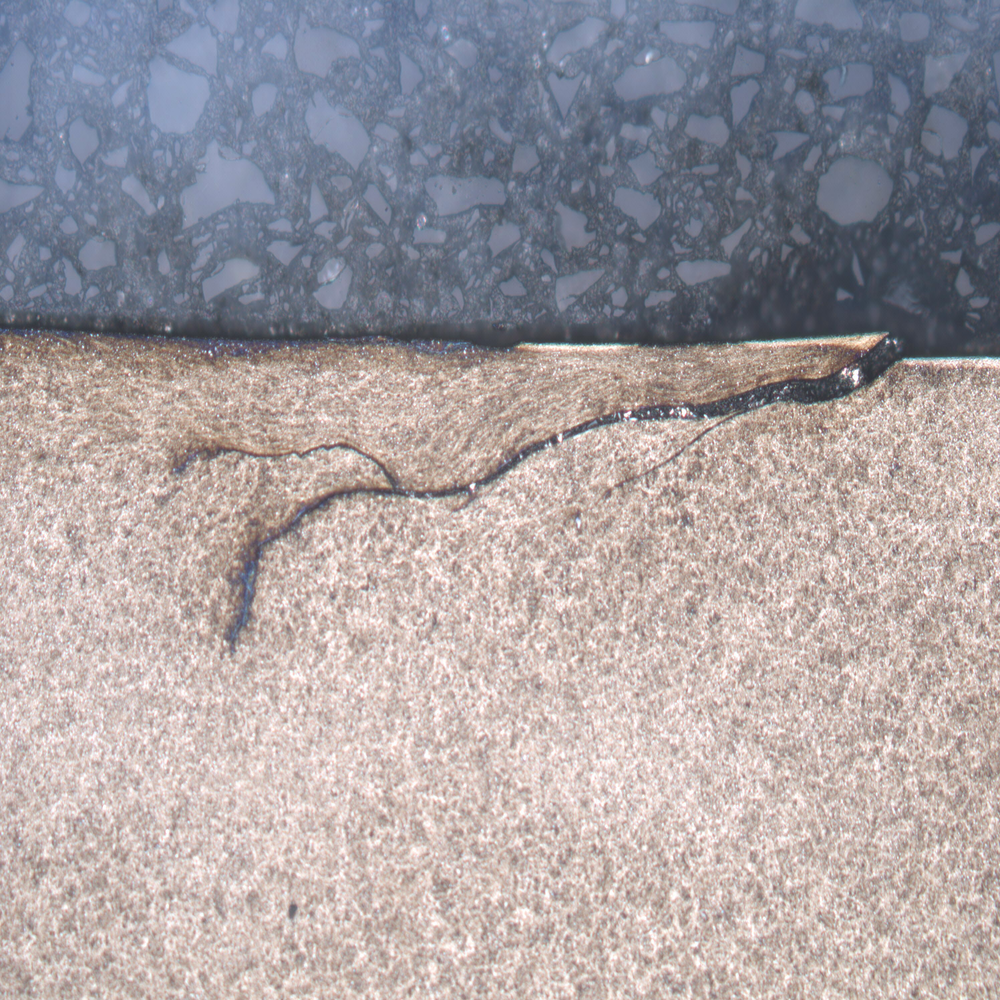crack: (155, 336, 910, 664)
